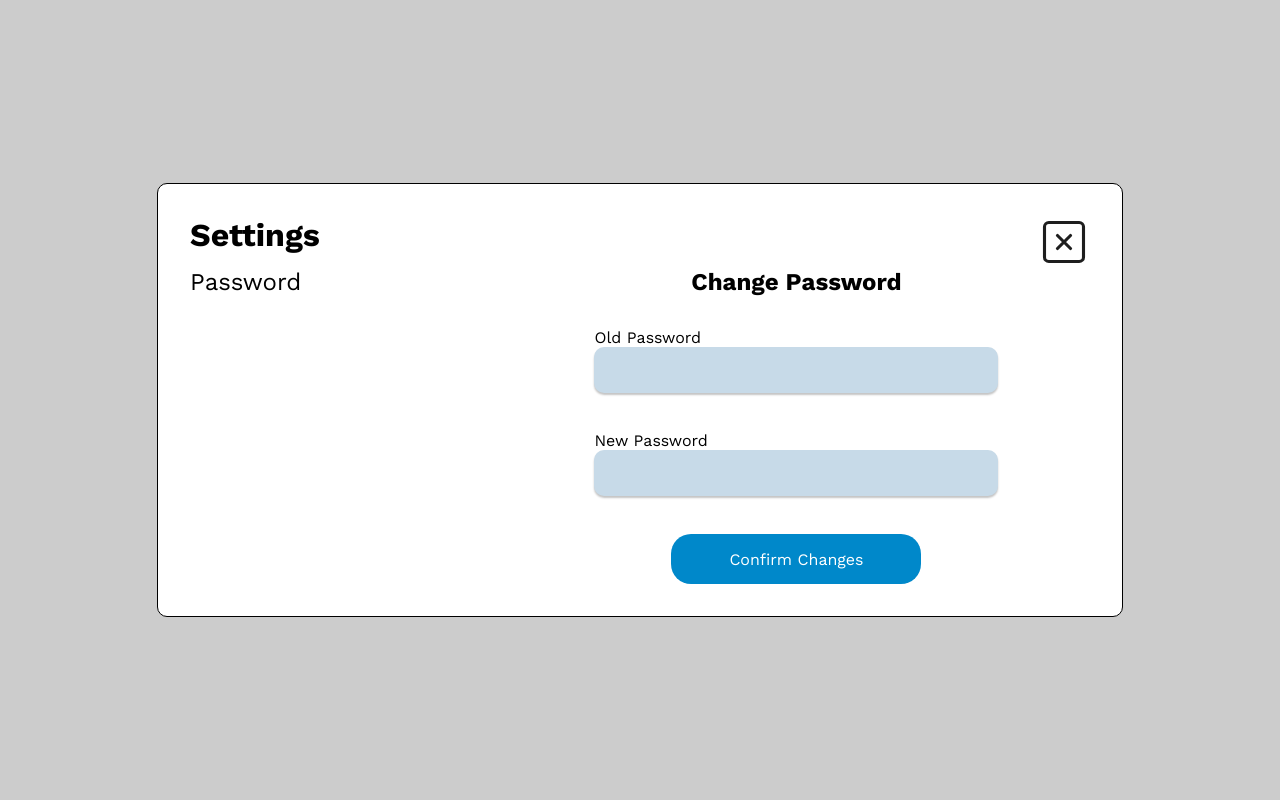
Test: shows error if old password is wrong
In the password field labelled "Old Password": (796, 370) [594, 347, 998, 393], type "wrongold"
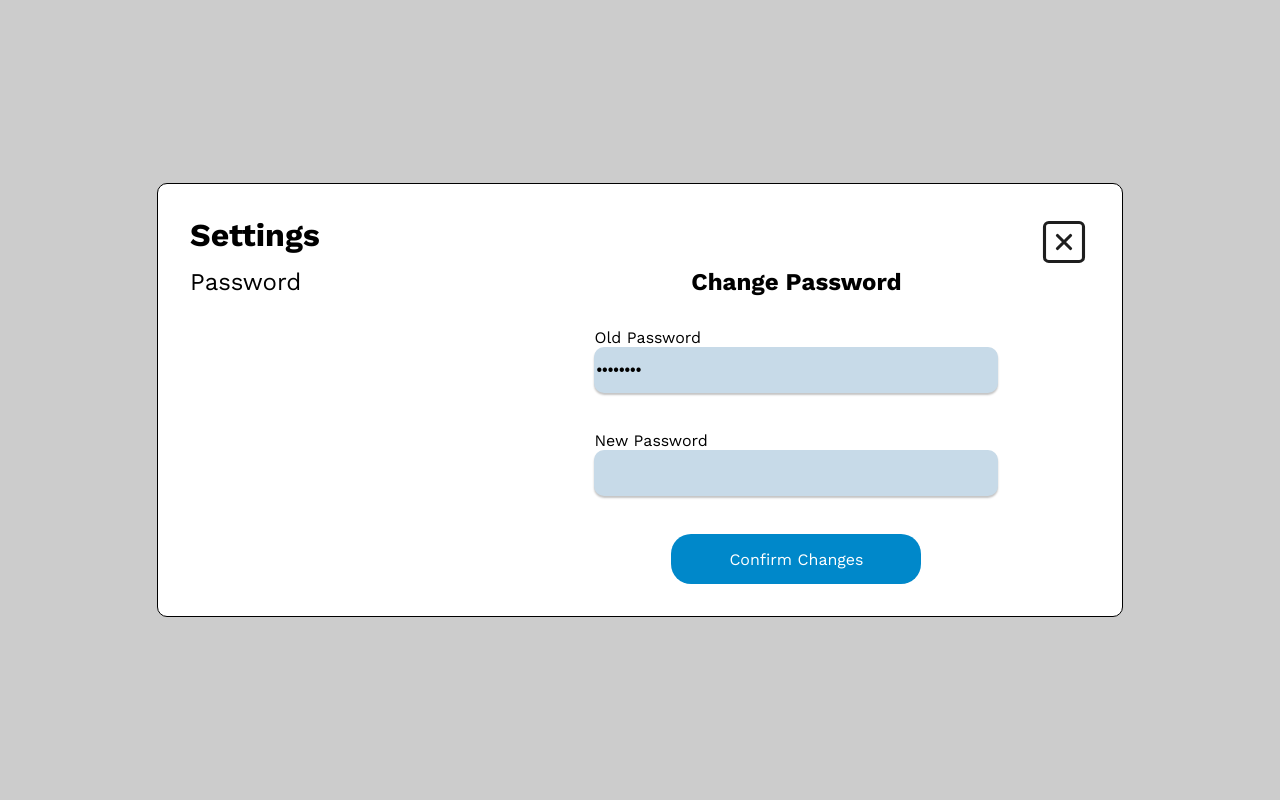
In the password field labelled "New Password": (796, 473) [594, 450, 998, 496], type "newpass"
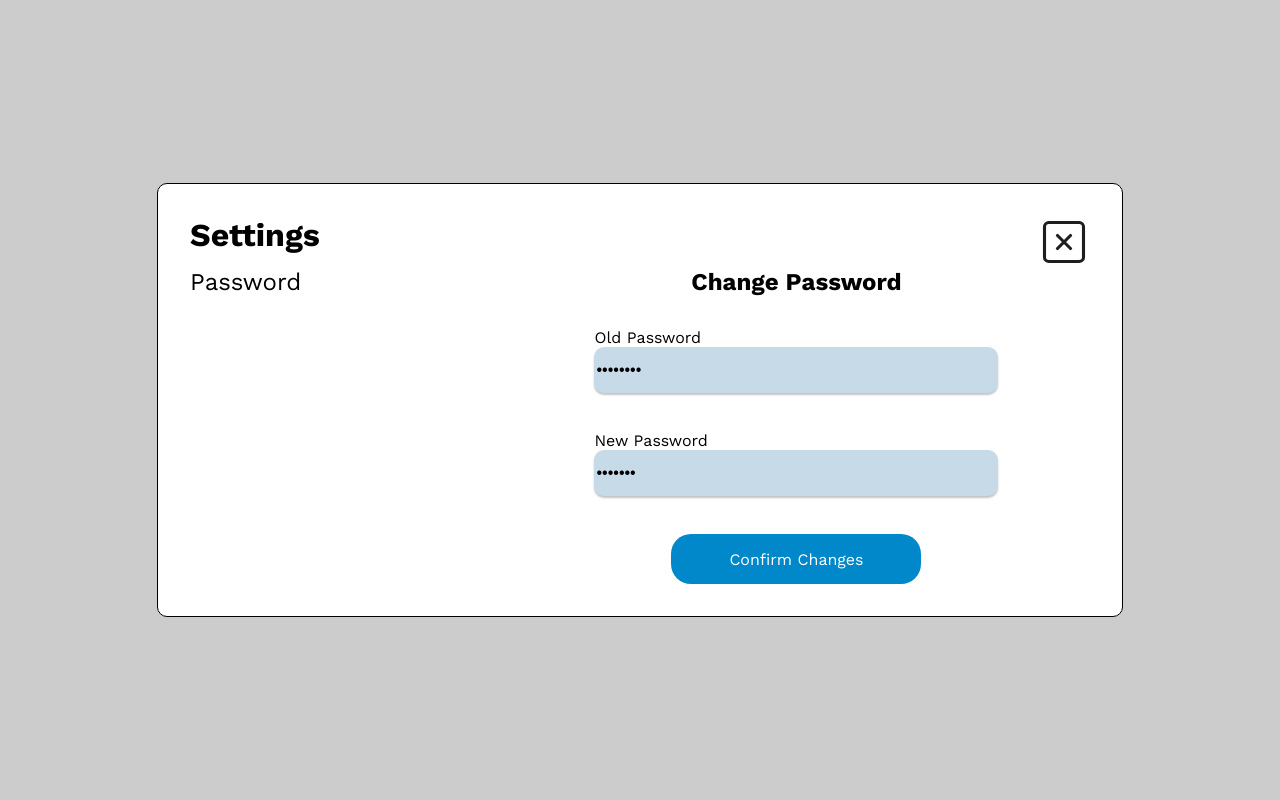
Click the button "Confirm Changes": (796, 559) [672, 534, 922, 584]
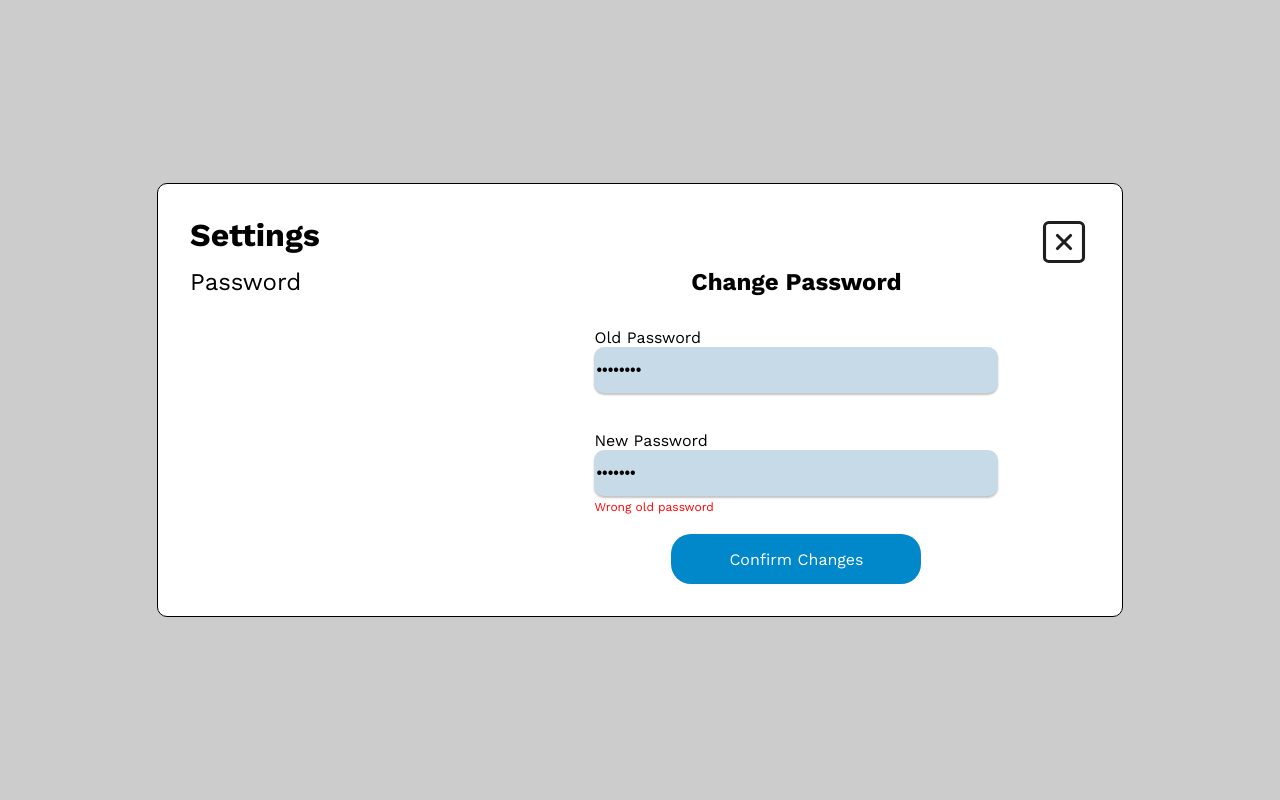
expect the text "Wrong old password" is shown: met, box [594, 500, 714, 514]
